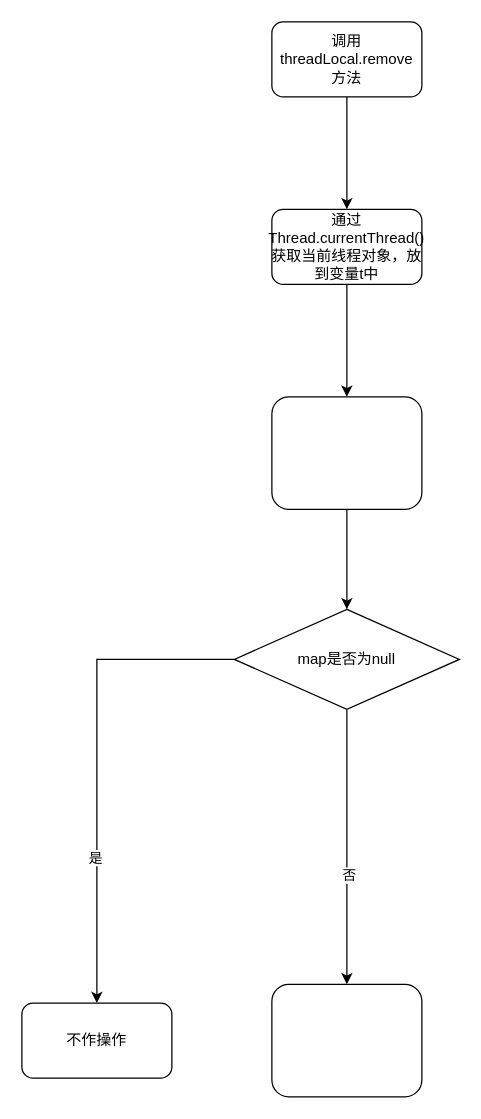
The diagram is 481 pixels wide and 1119 high, and some of its shapes have lost their labels. The box of each missing label's shape, as (x1, y1, x2, y2) in pixels:
调用map的remove方法移除当前key值【当前threadlocal】: (271, 983, 422, 1097)
通过getMap获取t里面的ThreadLocalMap，其实就是t的threadlocals成员，放到变量map中: (271, 396, 422, 509)
